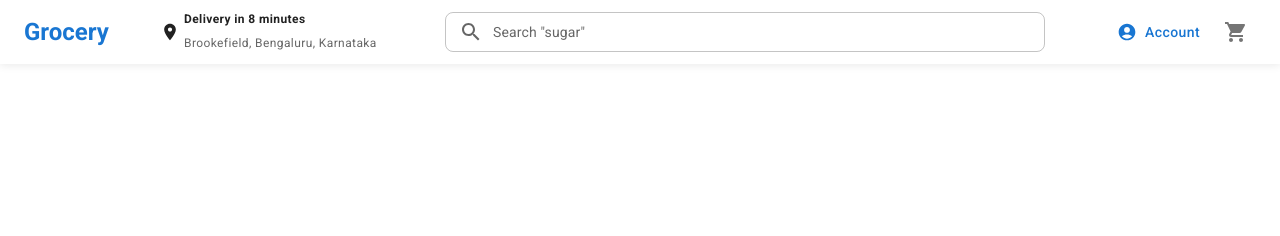
Test case: Header Component › displays user email when name is not available
Click the button "Account" at (1161, 32), box [1113,14,1208,50]
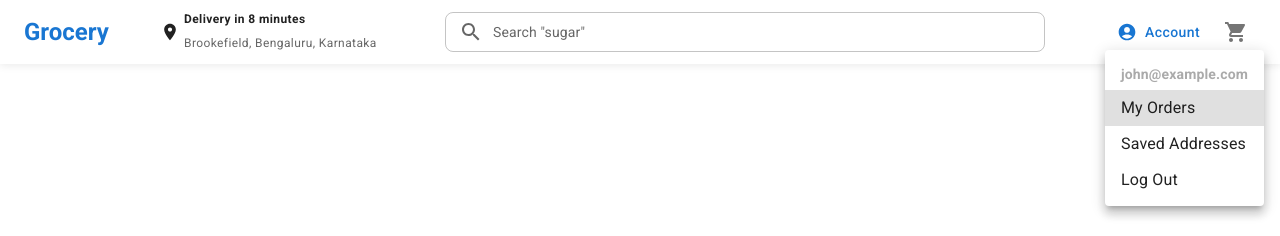
Expected: the text "john@example.com" is shown, [1121,64,1248,84]
